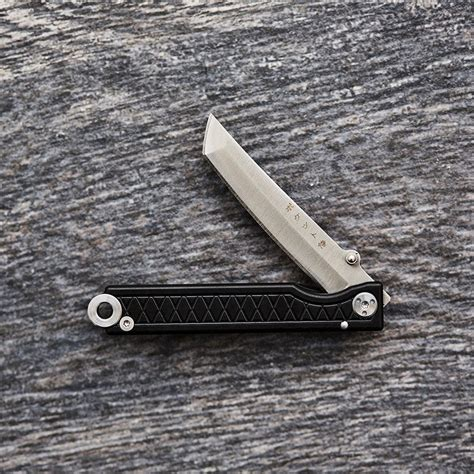knife: (86, 109, 398, 335)
